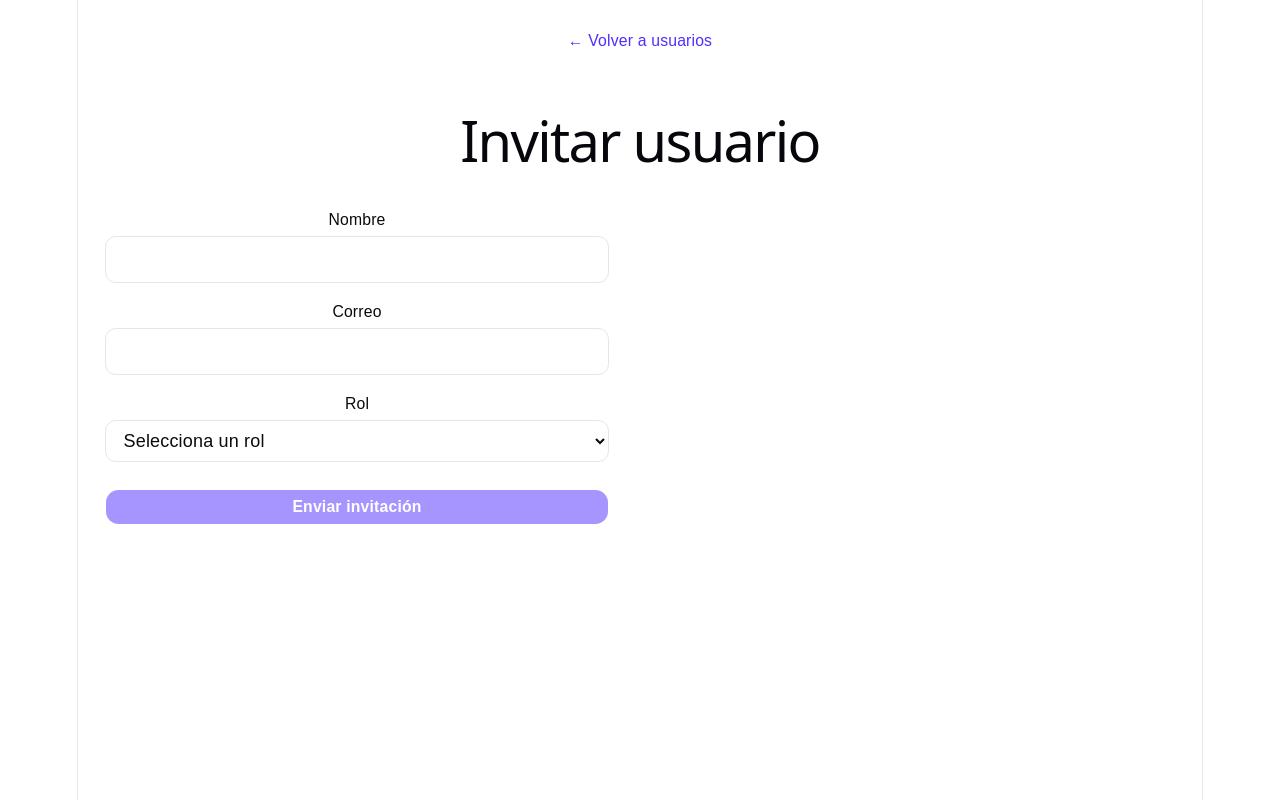
Test: InvitarUsuarioPage — mapeo de respuestas › 409 → mensaje JUNTO AL CAMPO de correo, no error general
The width and height of the screenshot is (1280, 800).
Step 1. Type "Ana" into the field labelled "Nombre" → (357, 260), box [105,236,609,283]
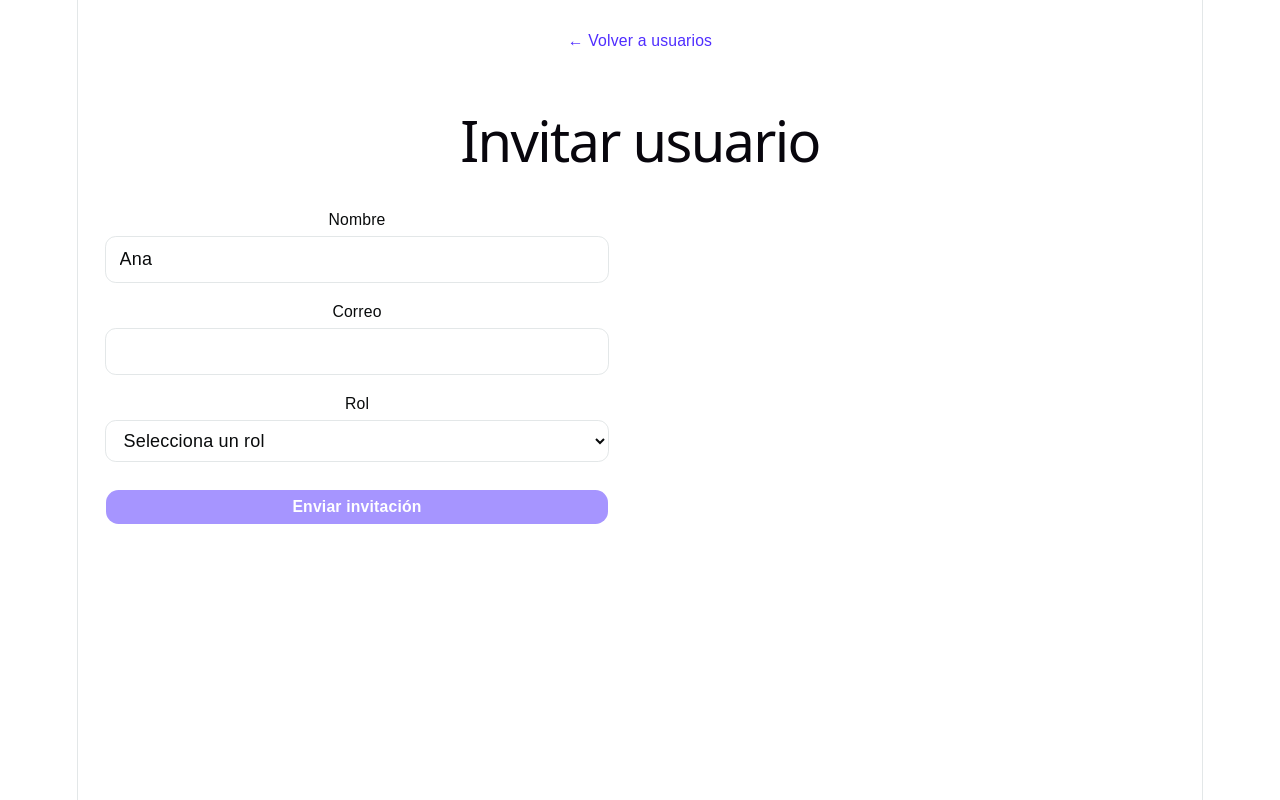
Step 2. Type "ana@x.com" into the field labelled "Correo" → (357, 352), box [105,328,609,375]
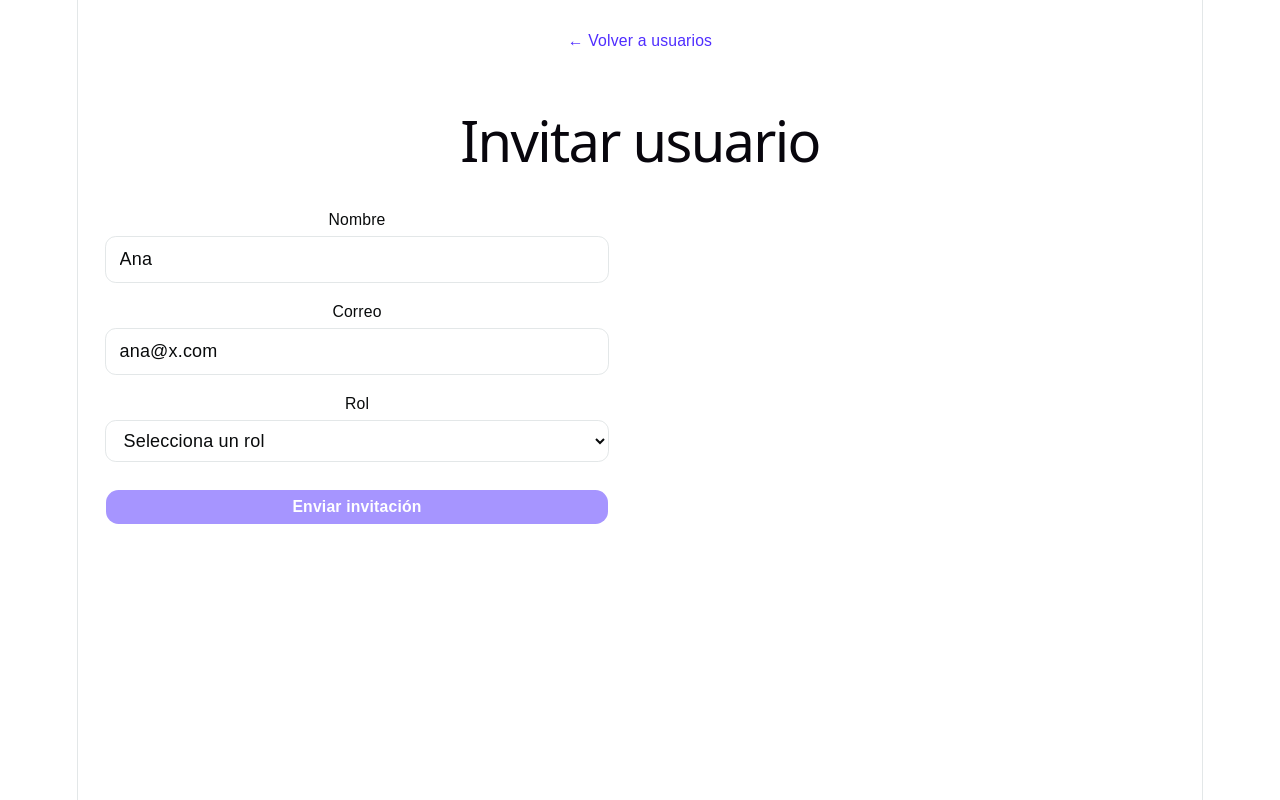
Step 3. Select "Administrador" in the dropdown labelled "Rol" → (357, 441), box [105,420,609,462]
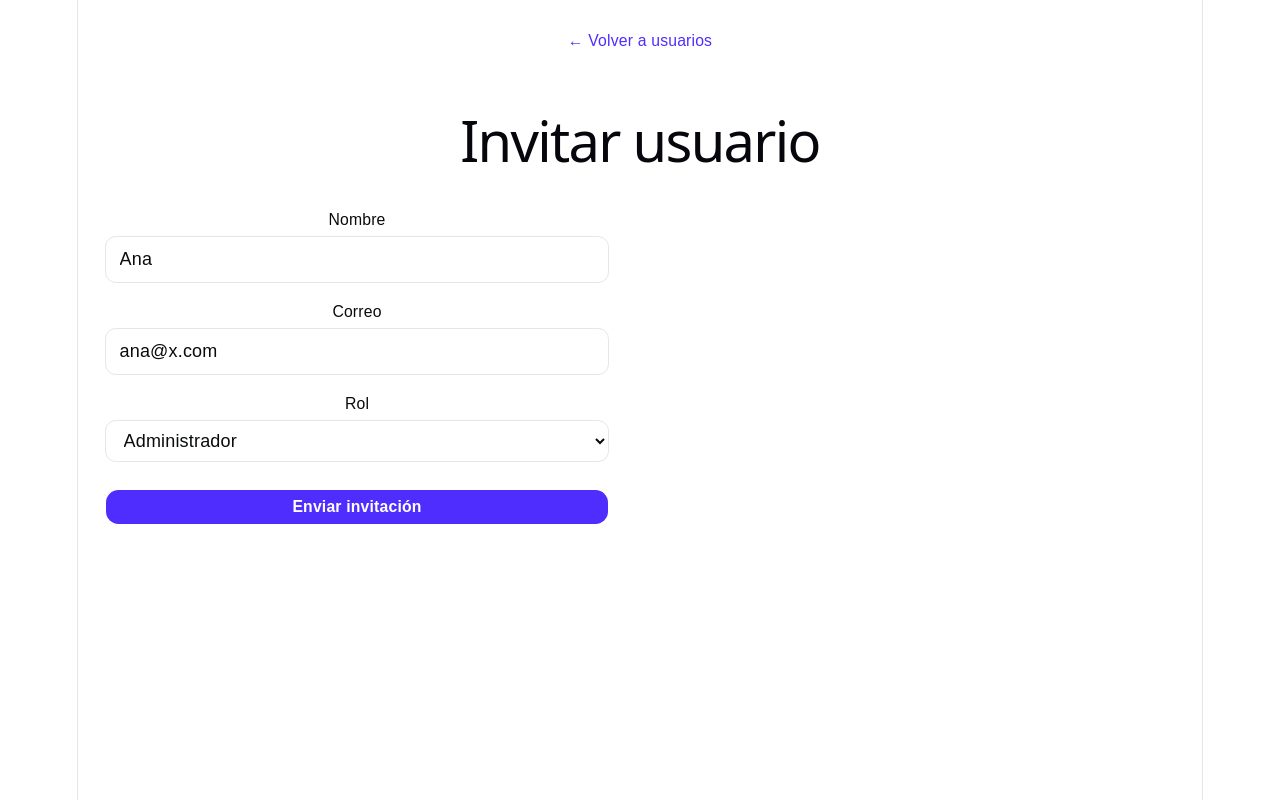
Step 4. Click the button "Enviar invitación" → (357, 507), box [105,489,609,525]
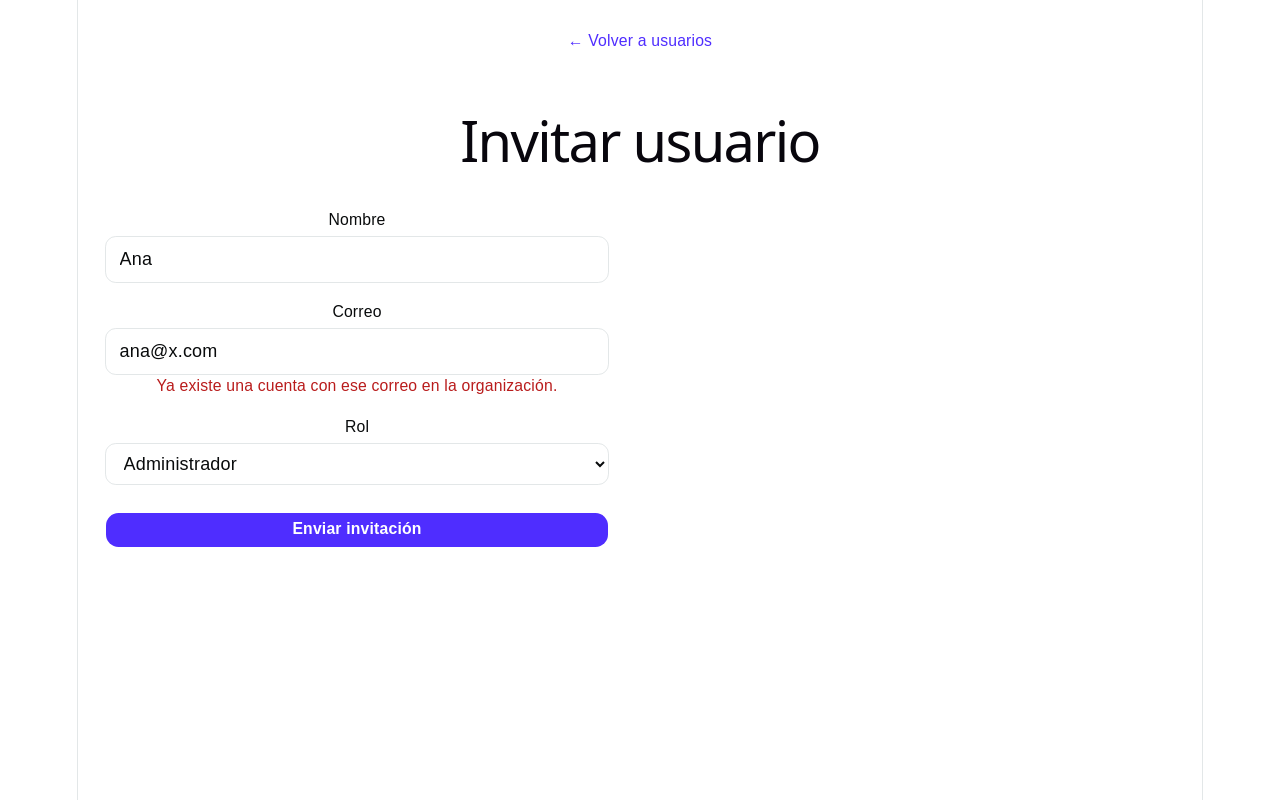
Result: the text "Ya existe una cuenta con ese correo en la organización." is shown at [156,377,558,394]
